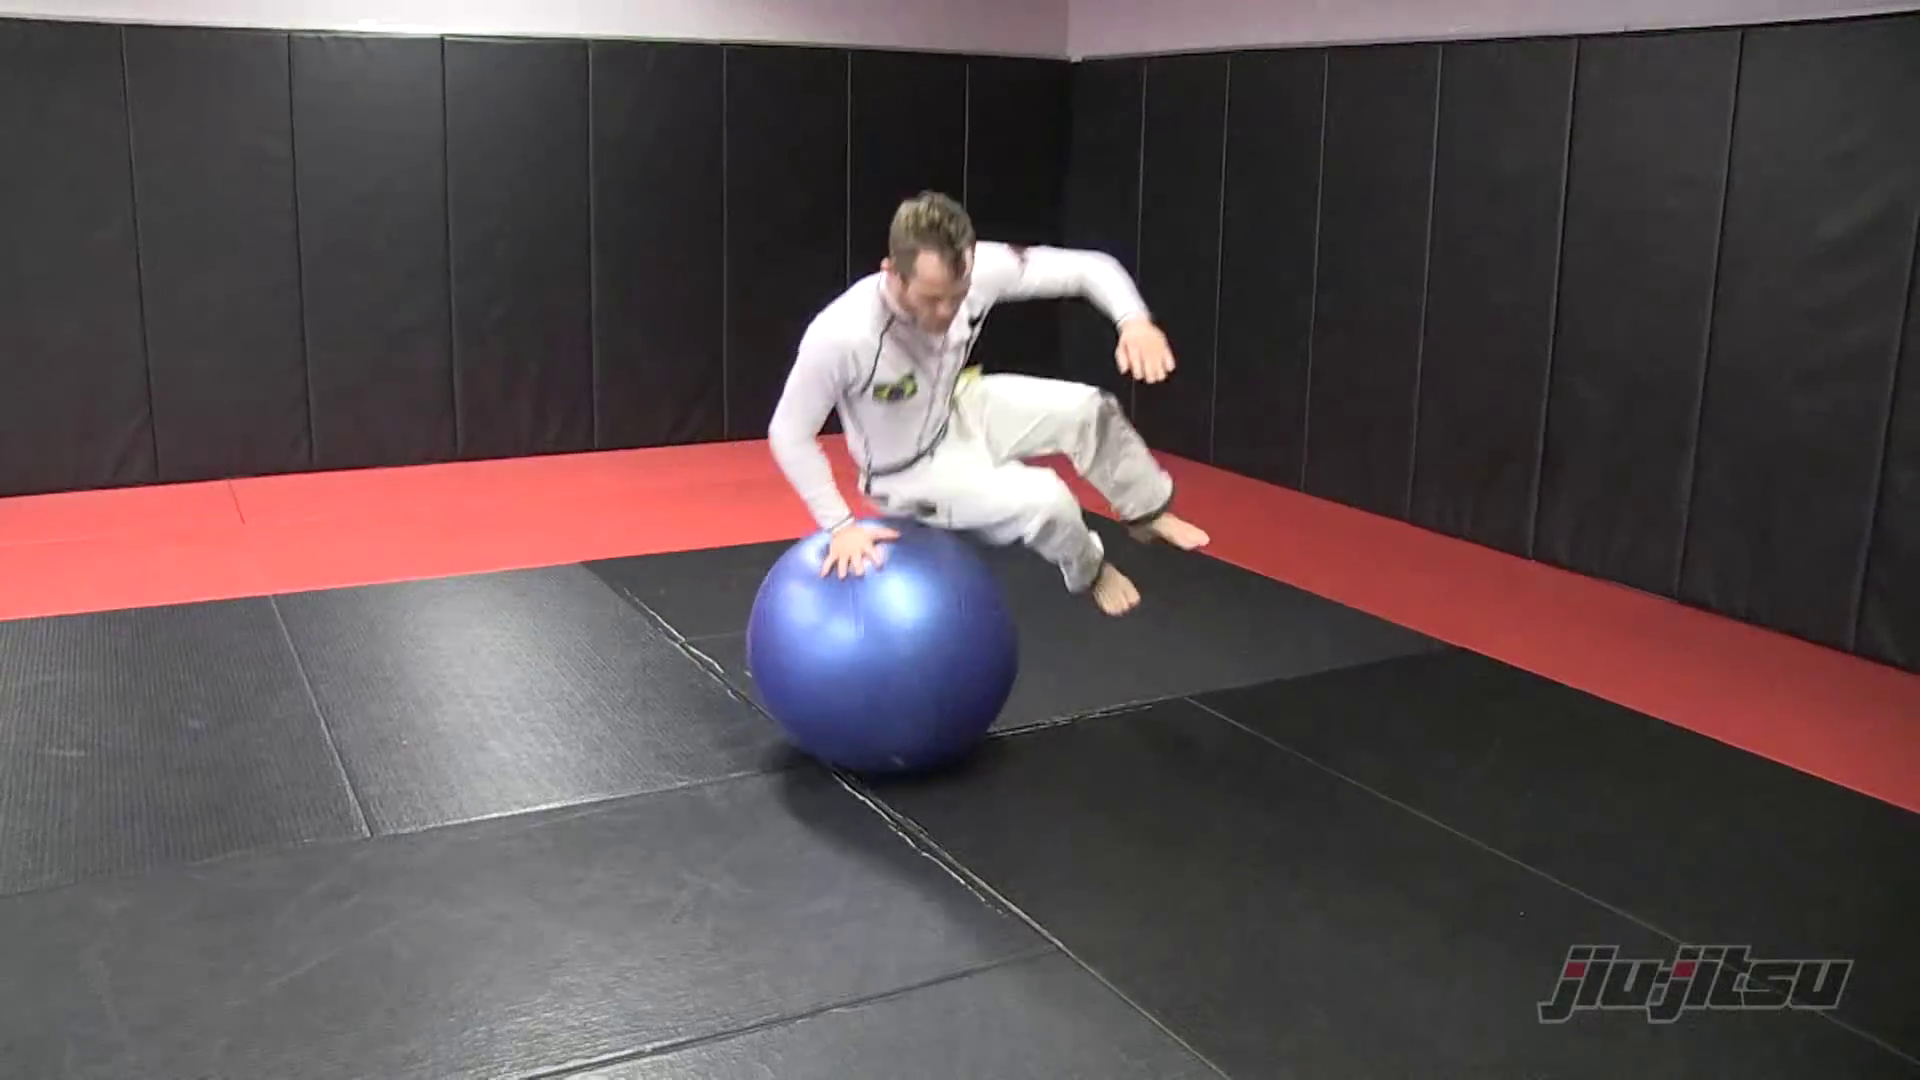yogaball: (742, 516, 1030, 778)
